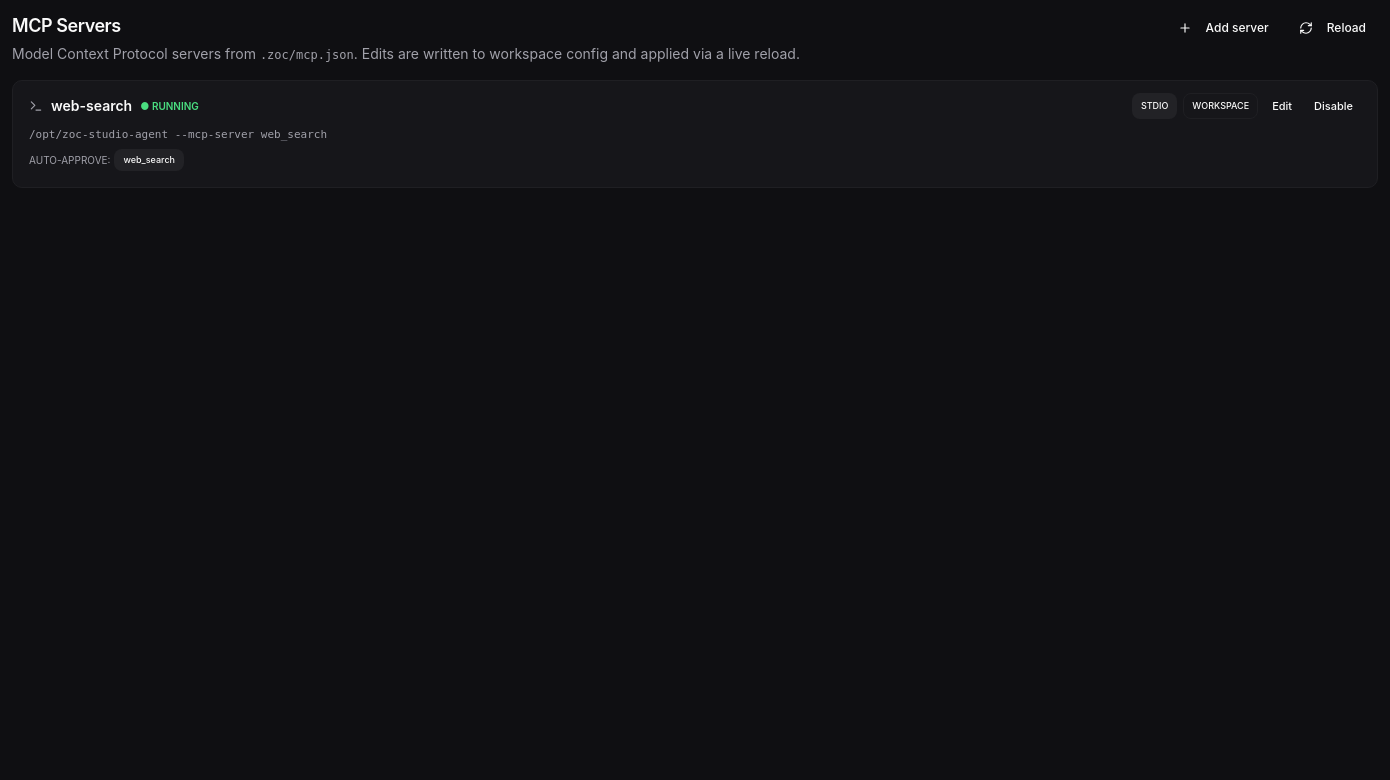
Scenario: McpSection runtime management › tests the unsaved candidate without writing or reloading
Expected: the text "web-search" is shown, [51, 97, 132, 114]
Click the button "Add server" at (1223, 28), box [1166, 12, 1281, 44]
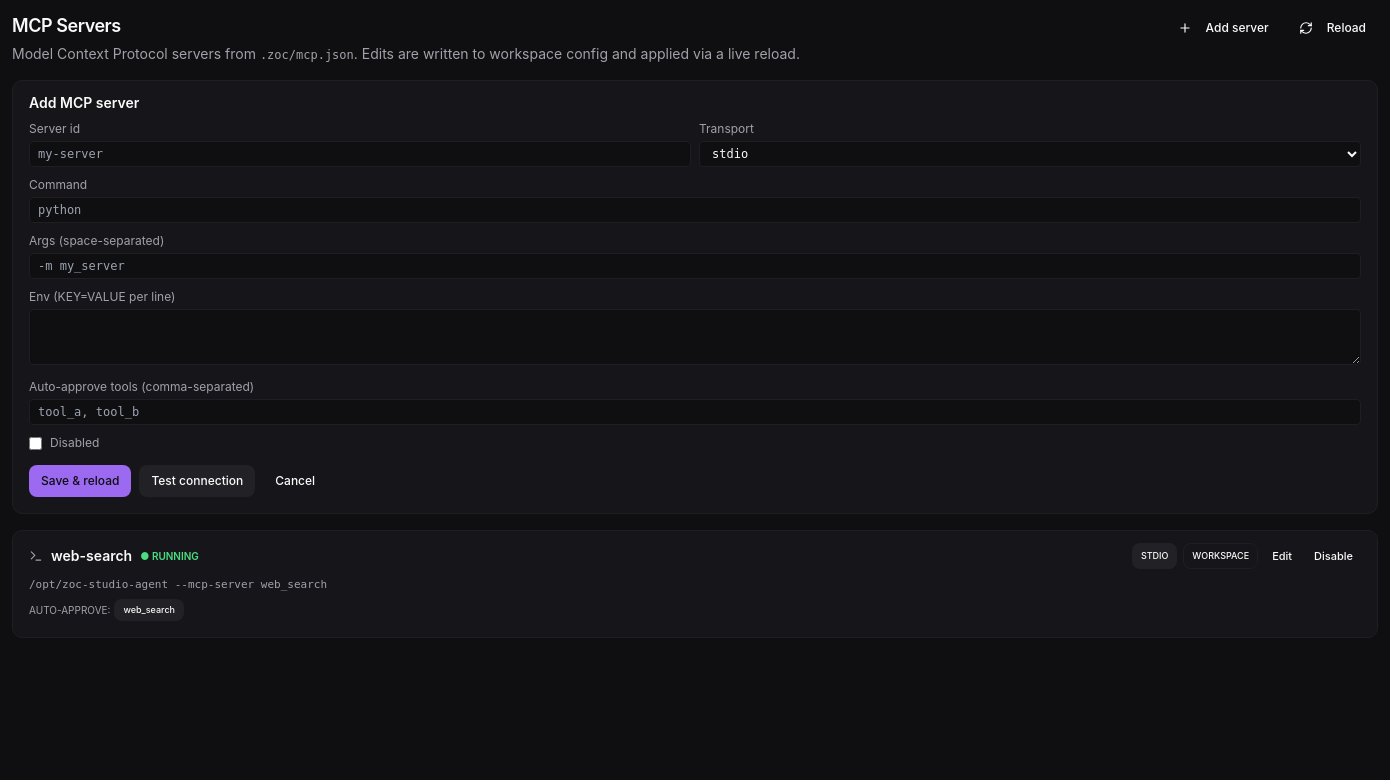
Type "candidate" into the field with placeholder "my-server" at (360, 154), box [29, 141, 691, 167]
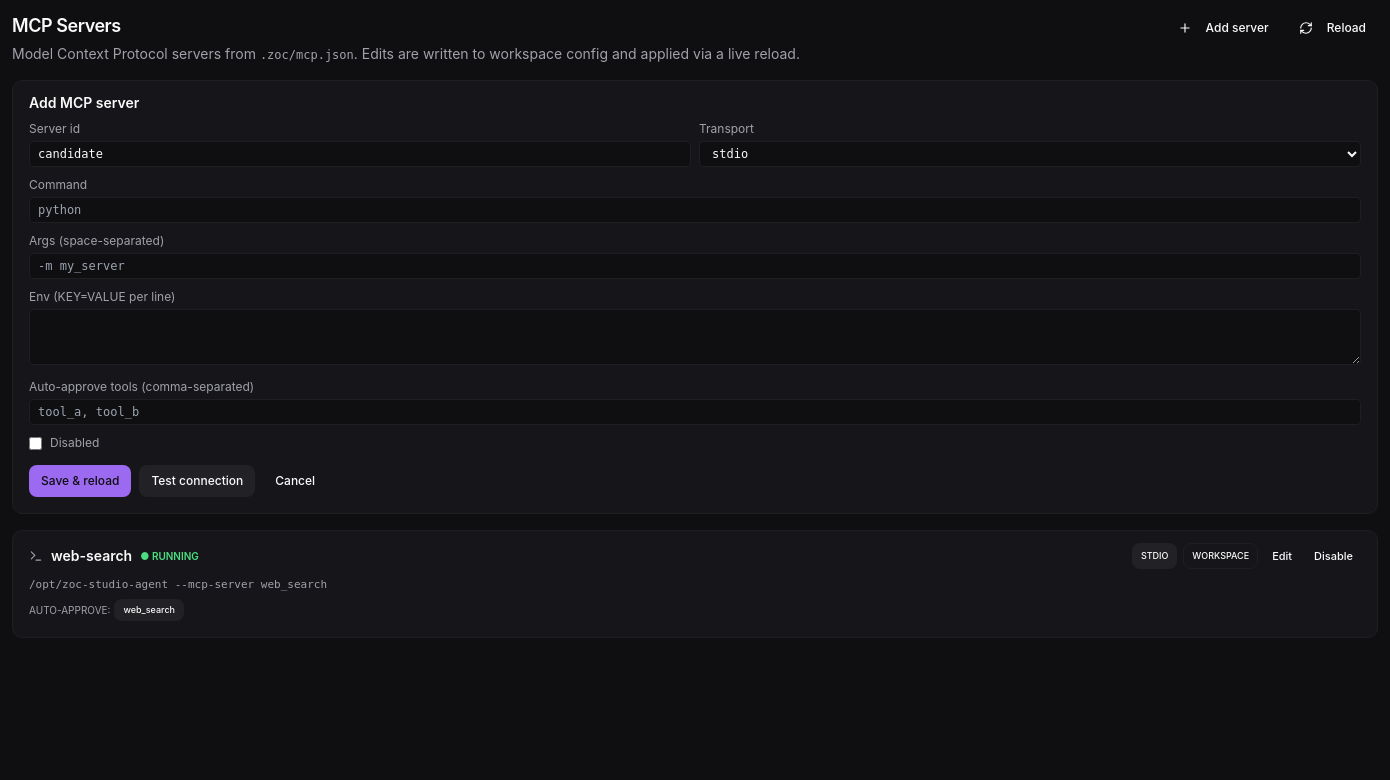
Type "python3" into the field with placeholder "python" at (695, 210), box [29, 197, 1361, 223]
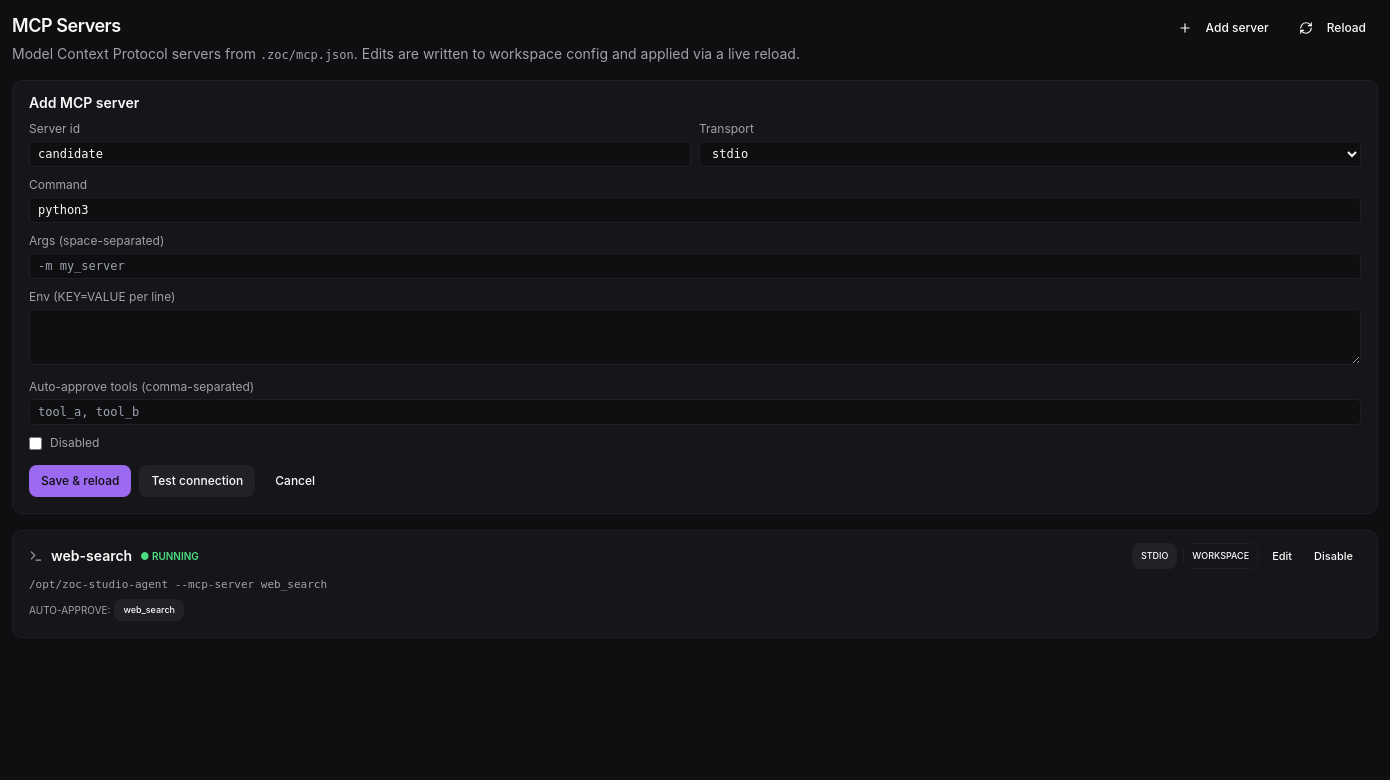
Type "-m candidate_server" into the field with placeholder "-m my_server" at (695, 266), box [29, 253, 1361, 279]
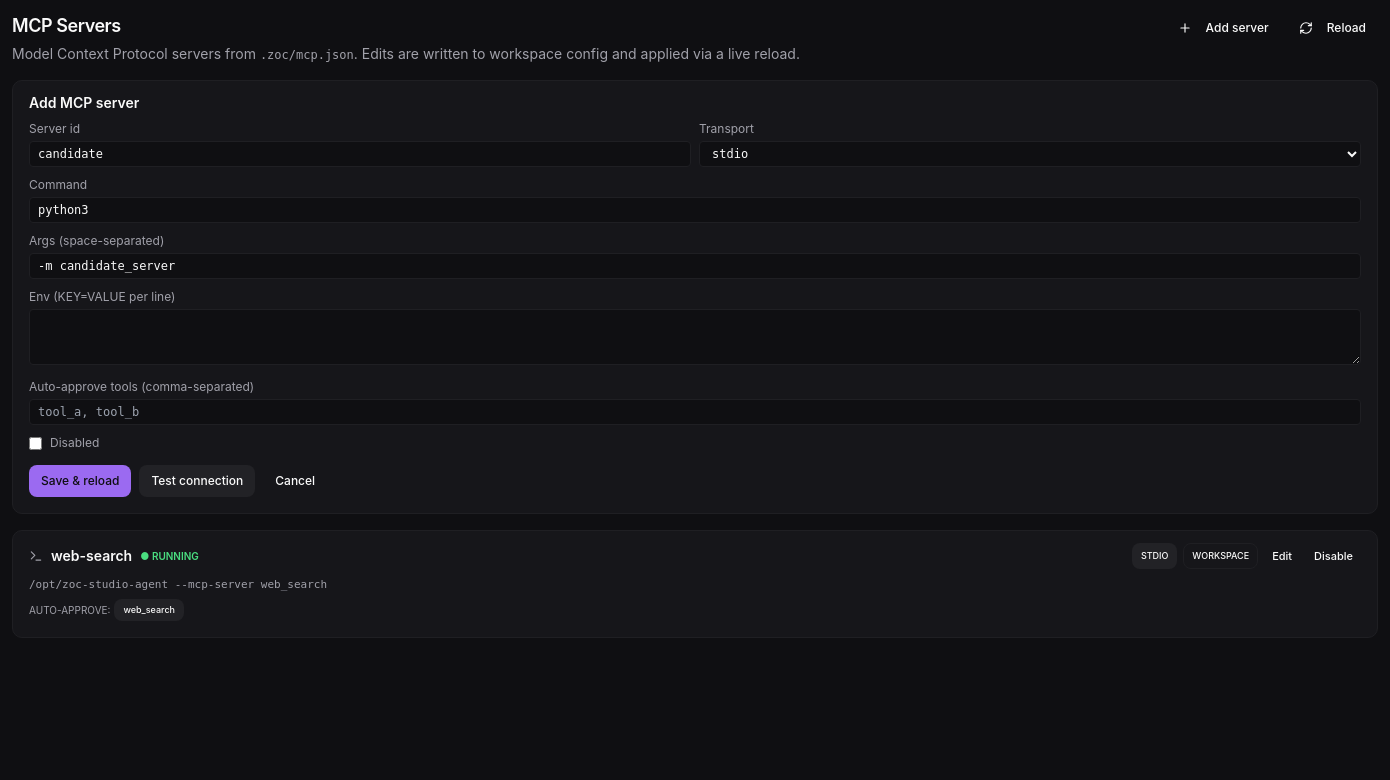
Type "safe" into the field with placeholder "tool_a, tool_b" at (695, 412), box [29, 399, 1361, 425]
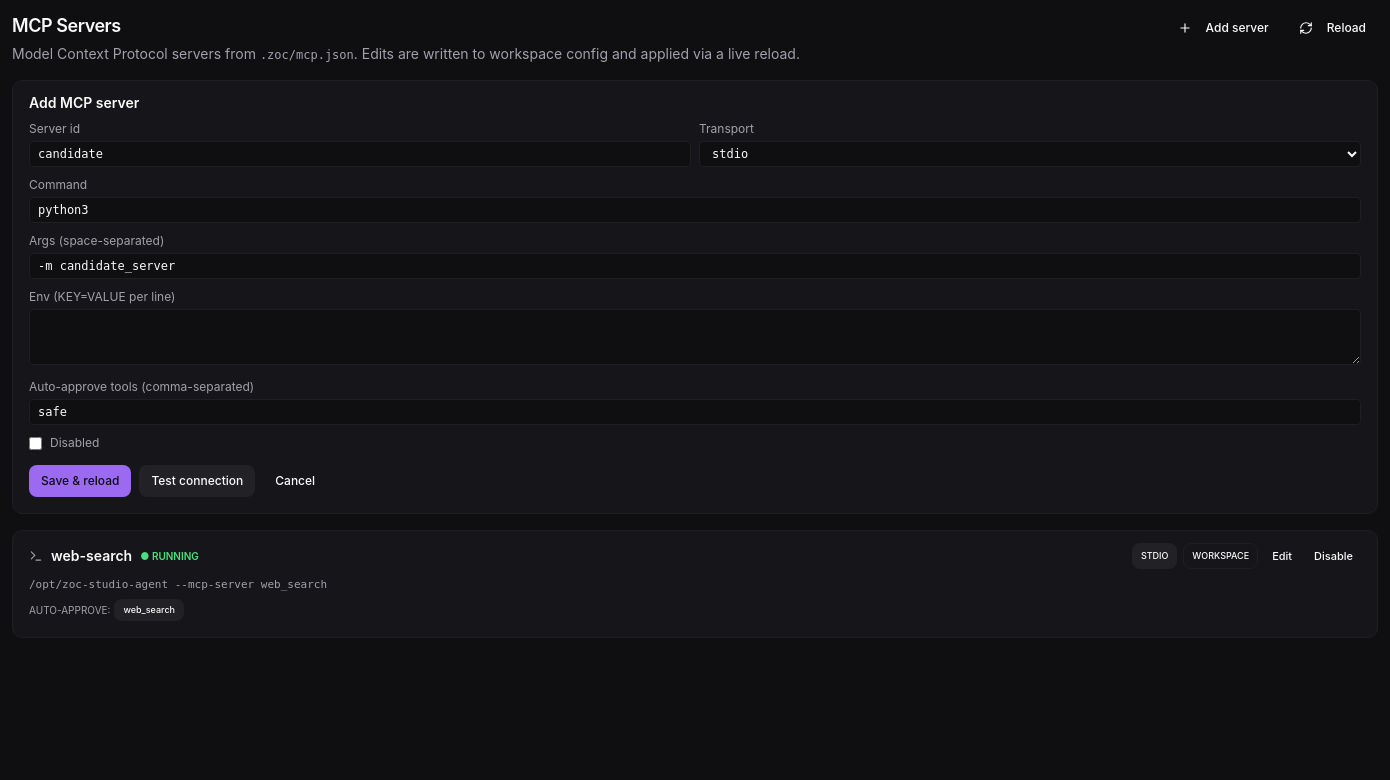
Click the button "Test connection" at (197, 481), box [139, 465, 255, 497]
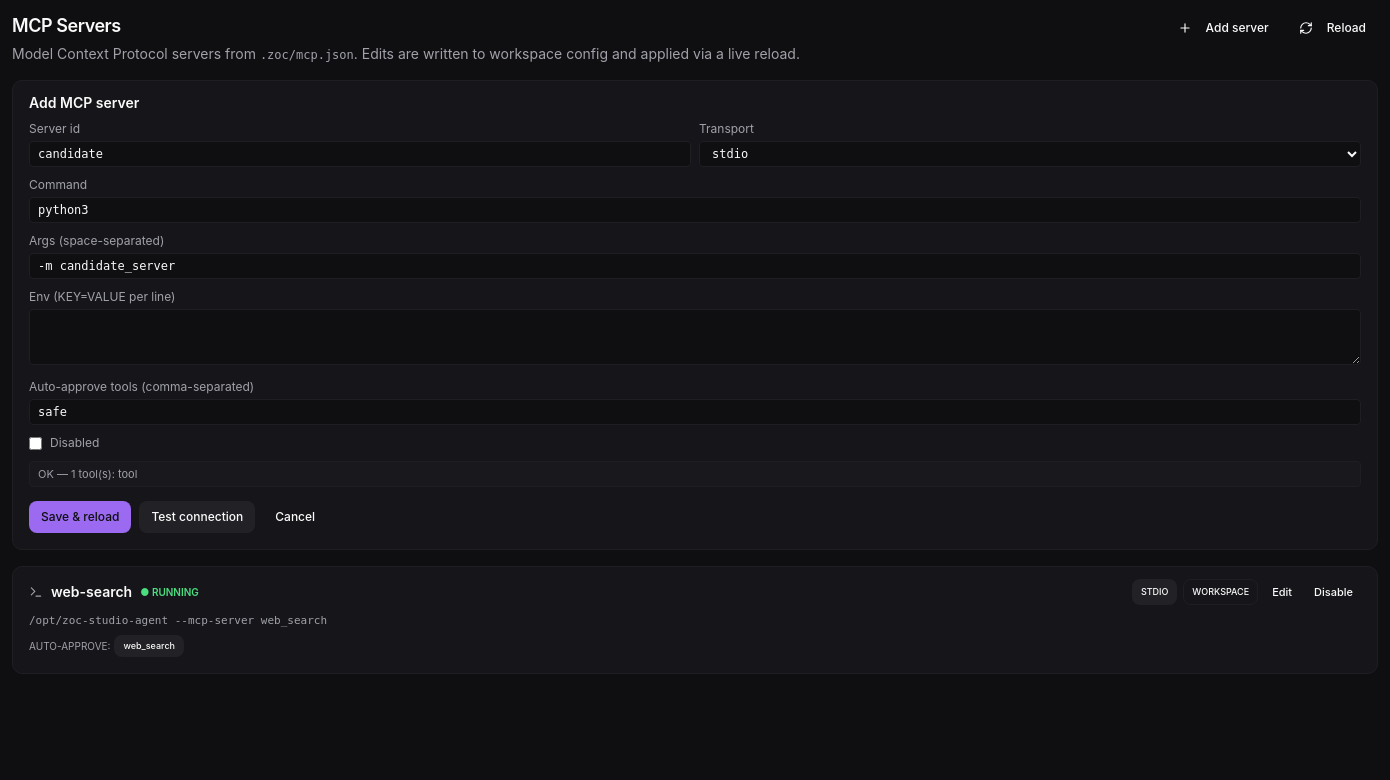
Now the text "OK — 1 tool(s): tool" is shown, box [29, 461, 1361, 487]
